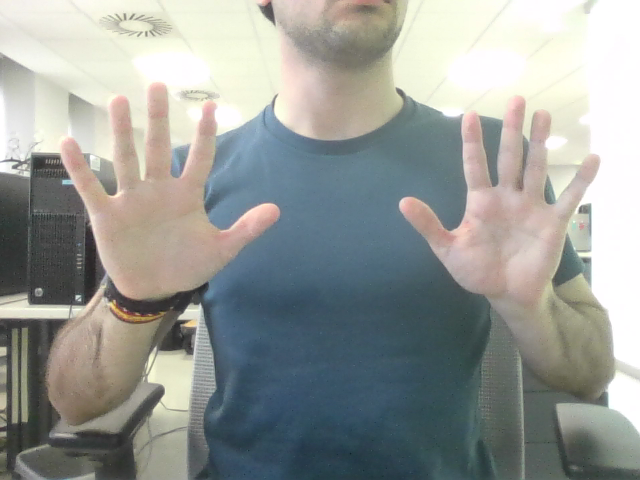Manos Arriba: (93, 101, 566, 270)
